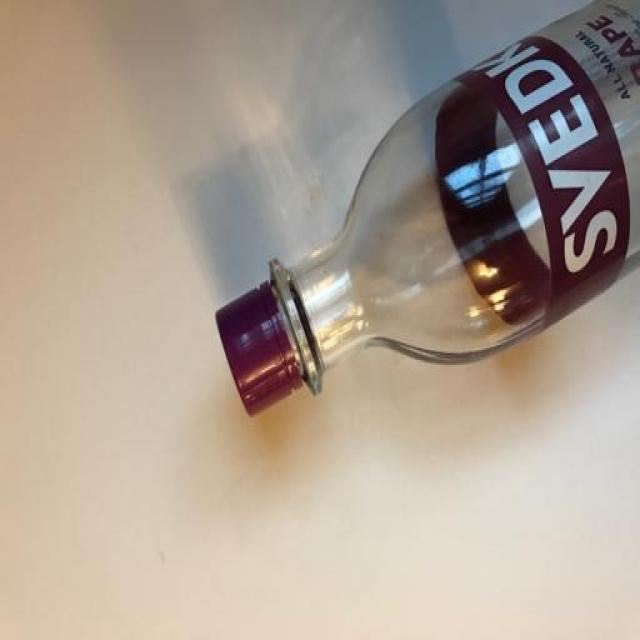glass: (191, 1, 640, 468)
